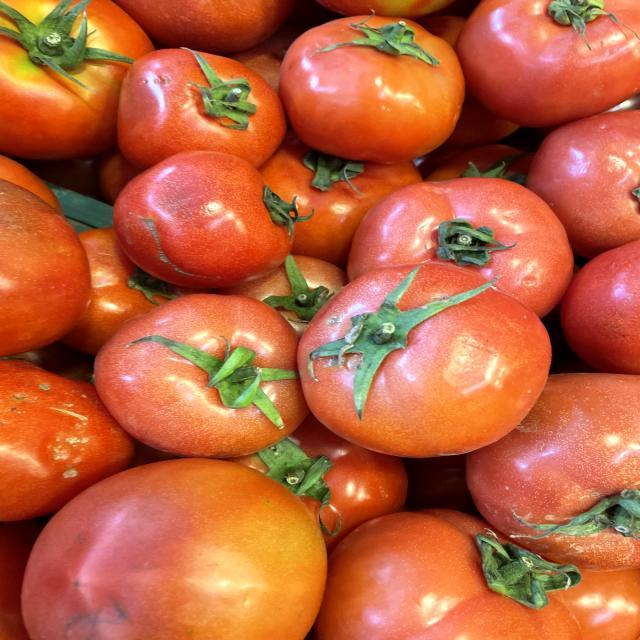tomato: (267, 252, 577, 464), (80, 274, 305, 453), (273, 10, 483, 164), (92, 152, 313, 282), (94, 40, 294, 168)
